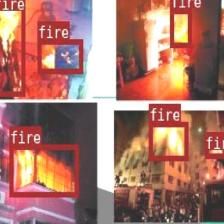fire: (9, 144, 78, 196), (0, 0, 24, 95), (37, 38, 82, 73), (149, 121, 187, 159), (170, 8, 190, 47), (204, 131, 224, 157)
